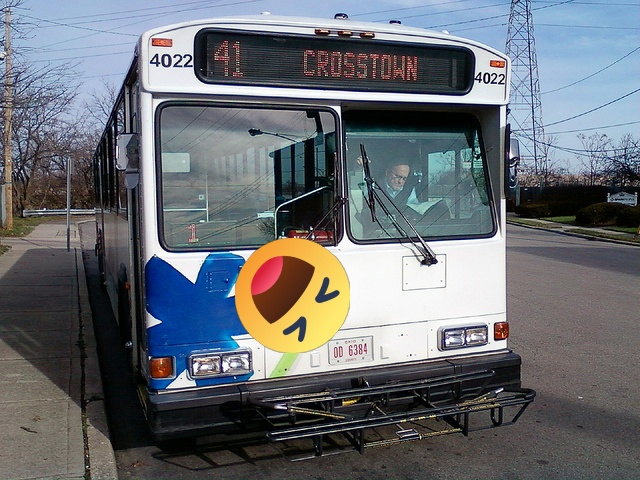haha: (235, 238, 350, 353)
